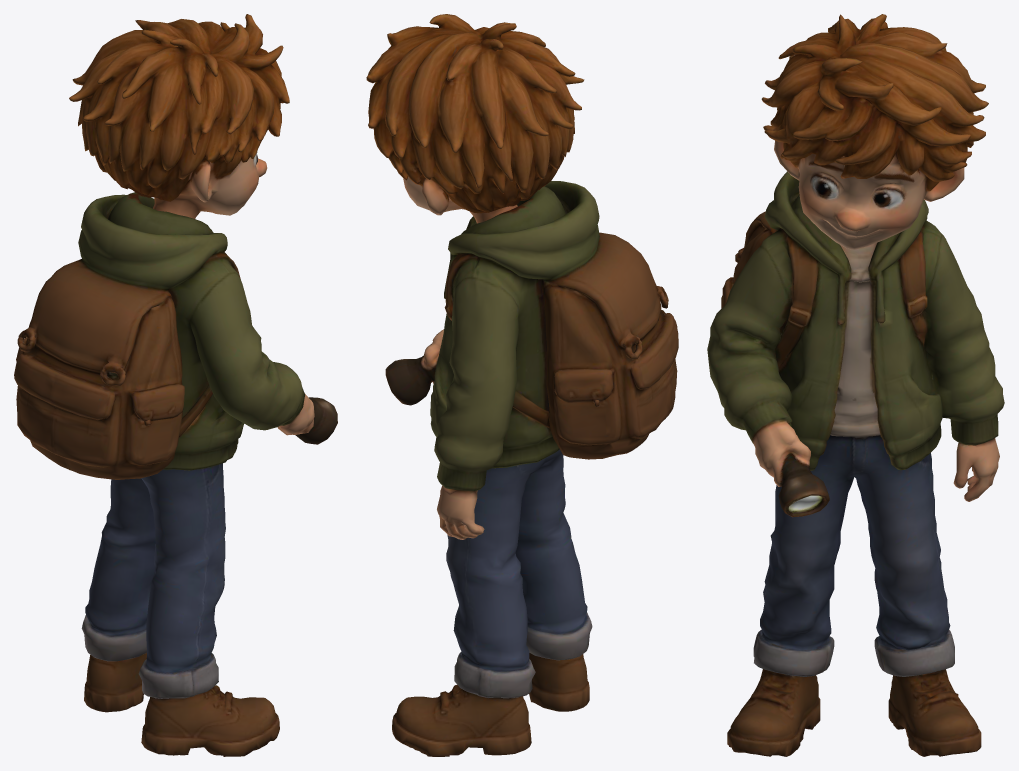
The model's file is detective-red-haired-boy.glb.
3 renders of one model, left to right at view 1: azimuth 30°, elevation 25°; view 2: azimuth 150°, elevation 25°; view 3: azimuth 270°, elevation 25°, orthographic. The views are drawn at different scales.
Visible parts, largest first — view 1: tripo_node_95e91af3-74d7-4479-92b3-c2684d41d1c9; view 2: tripo_node_95e91af3-74d7-4479-92b3-c2684d41d1c9; view 3: tripo_node_95e91af3-74d7-4479-92b3-c2684d41d1c9.
Boxes of the visible parts, x1,y1,x2,y2 form: tripo_node_95e91af3-74d7-4479-92b3-c2684d41d1c9: (14, 14, 337, 756); tripo_node_95e91af3-74d7-4479-92b3-c2684d41d1c9: (366, 14, 678, 756); tripo_node_95e91af3-74d7-4479-92b3-c2684d41d1c9: (707, 14, 1004, 756).
Bounding box in the file's own units: 0.4423 × 1 × 0.3757.
Materials: 1 (1 with a texture image).
